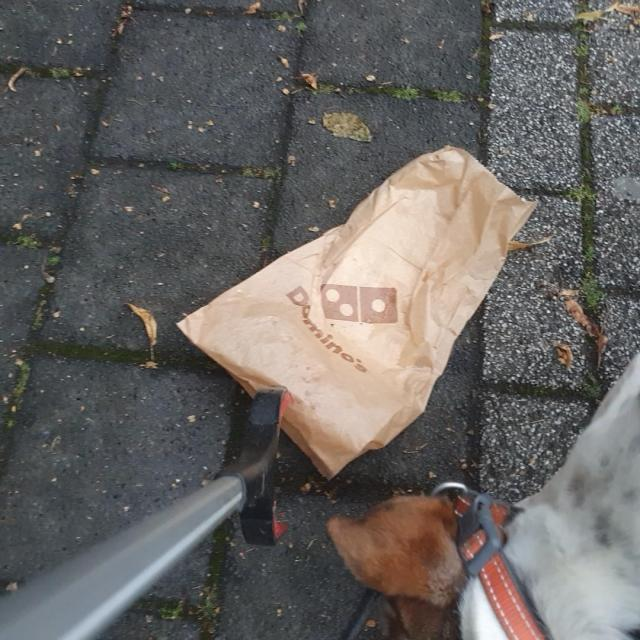Paper: (173, 144, 542, 484)
